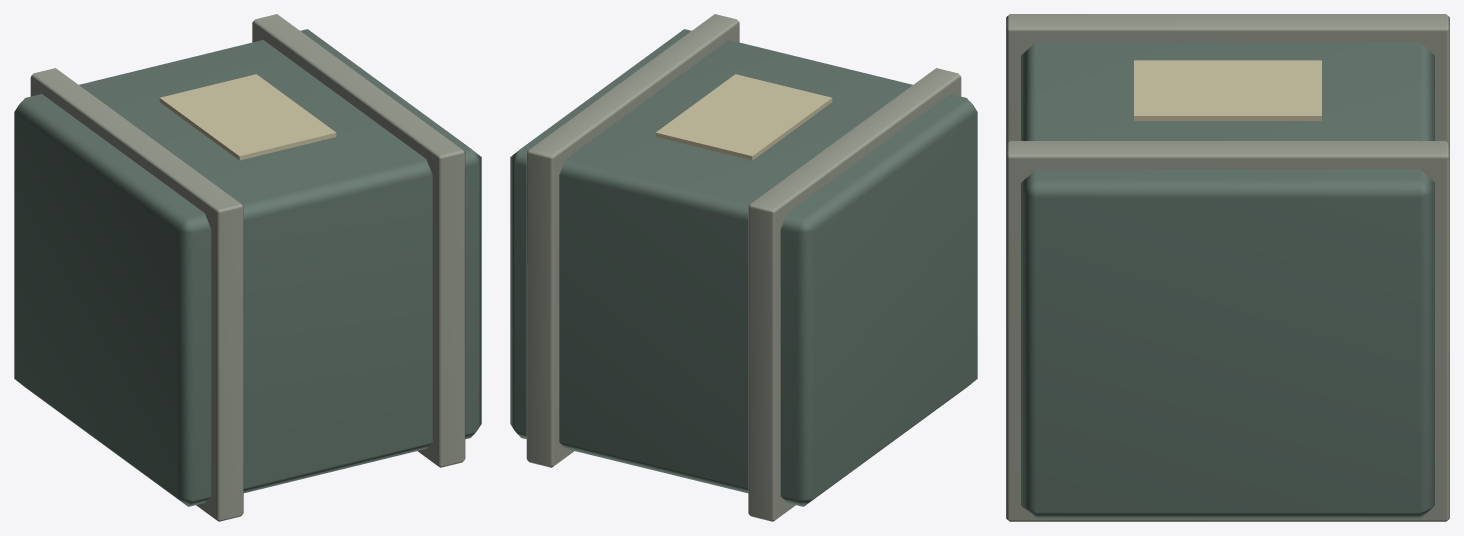
Rendered from supply_crate.glb.
The picture shows the model from 3 angles, left to right: view 1: azimuth 30°, elevation 25°; view 2: azimuth 150°, elevation 25°; view 3: azimuth 270°, elevation 25°; orthographic projection. The views are drawn at different scales.
Parts seen in each view (by area): view 1: supply_crate; view 2: supply_crate; view 3: supply_crate.
Boxes of the visible parts, x1,y1,x2,y2 form: supply_crate: (14, 14, 481, 521); supply_crate: (510, 14, 977, 521); supply_crate: (1006, 14, 1449, 521).
Size of the model in its own units: 1.1 by 1.08 by 1.18.
